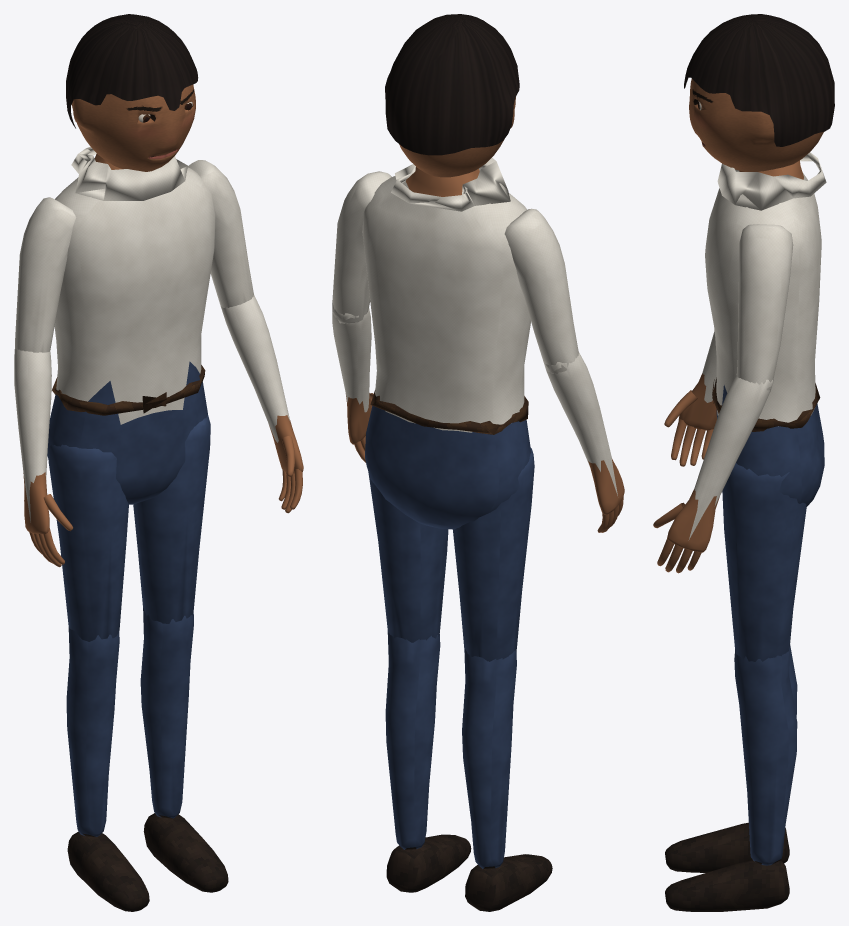
The model's file is persona_nino_a_medio.obj.
3 renders of one model, left to right at view 1: azimuth 30°, elevation 25°; view 2: azimuth 150°, elevation 25°; view 3: azimuth 270°, elevation 25°, orthographic. The views are drawn at different scales.
Visible parts, largest first — view 1: Torso, PiernaIzq, PiernaDer, MusloDer, MusloIzq, Pelo, Cabeza, BrazoDer, AntebrazoDer, AntebrazoIzq, BrazoIzq, Cuello (+1 smaller); view 2: Torso, Pelo, PiernaDer, PiernaIzq, MusloDer, MusloIzq, BrazoDer, AntebrazoDer, BrazoIzq, AntebrazoIzq, Cuello, Cabeza (+1 smaller); view 3: Torso, PiernaIzq, Pelo, MusloIzq, AntebrazoIzq, BrazoIzq, Cabeza, PiernaDer, AntebrazoDer, Cuello, Cinturon.
Boxes of the visible parts, x1,y1,x2,y2 form: Torso: (47,153,215,504); PiernaIzq: (140,608,228,892); PiernaDer: (66,627,149,911); MusloDer: (48,444,128,641); MusloIzq: (133,415,210,623); Pelo: (66,14,198,128); Cabeza: (71,84,195,171); BrazoDer: (15,197,76,352); AntebrazoDer: (14,348,73,567); AntebrazoIzq: (221,295,303,513); BrazoIzq: (188,160,253,308); Cuello: (71,147,187,200); Torso: (362,167,531,529); Pelo: (385,14,519,155); PiernaDer: (462,649,552,911); PiernaIzq: (385,630,471,892); MusloDer: (452,448,534,661); MusloIzq: (368,472,448,642); BrazoDer: (504,208,578,373); AntebrazoDer: (545,352,624,532); BrazoIzq: (332,171,391,323); AntebrazoIzq: (332,303,373,462); Cuello: (391,158,510,211); Cabeza: (399,97,515,177); Torso: (705,160,824,506); PiernaIzq: (665,646,797,911); Pelo: (684,14,834,146); MusloIzq: (722,463,806,661); AntebrazoIzq: (653,375,773,573); BrazoIzq: (736,224,793,391); Cabeza: (689,78,823,171); PiernaDer: (665,644,797,872); AntebrazoDer: (664,331,716,466); Cuello: (717,152,826,210); Cinturon: (712,377,820,431).
Bounding box in the file's own units: 0.3841 × 1.2 × 0.2268.
Materials: 12 (12 with a texture image).
